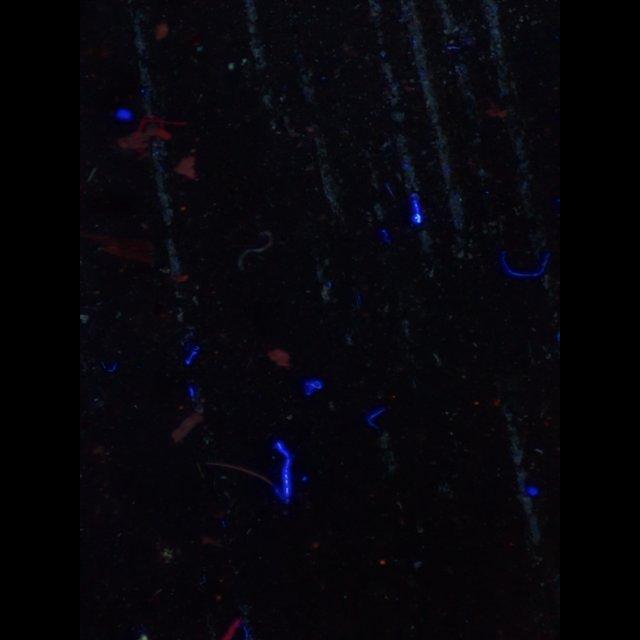Fibre: (238, 230, 272, 270)
